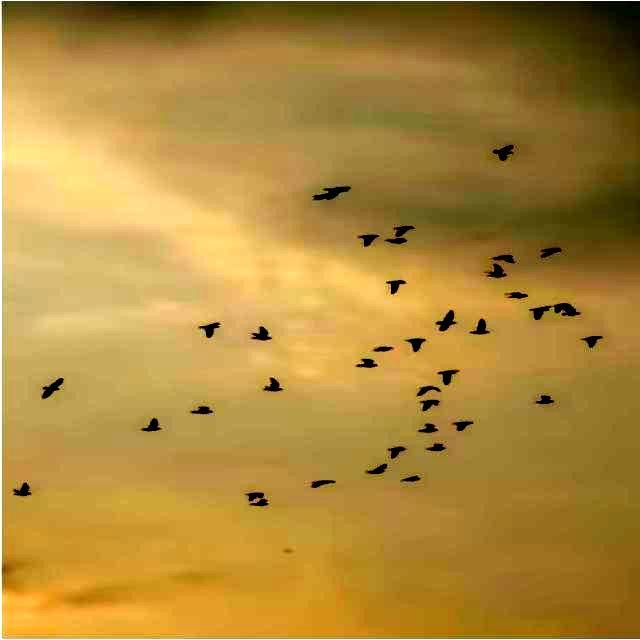bird: (308, 183, 360, 206), (482, 142, 525, 164), (430, 309, 464, 336), (38, 374, 68, 402), (305, 471, 340, 494), (258, 374, 294, 396), (11, 476, 38, 504), (130, 416, 168, 434), (437, 366, 474, 384), (464, 320, 502, 337), (388, 220, 428, 236), (579, 332, 610, 352), (405, 383, 446, 398), (248, 496, 282, 513), (534, 242, 566, 260), (190, 321, 223, 338), (401, 335, 434, 352), (454, 416, 482, 436), (355, 231, 384, 250), (353, 356, 382, 375), (185, 402, 218, 418), (408, 400, 444, 414), (428, 441, 452, 462), (247, 324, 272, 344), (534, 392, 562, 409), (505, 287, 534, 303), (385, 238, 417, 252), (492, 248, 520, 264), (486, 264, 508, 284), (366, 462, 392, 478), (385, 276, 408, 294), (386, 442, 409, 460), (372, 340, 394, 358), (556, 297, 582, 311), (528, 304, 550, 320), (416, 422, 442, 435), (241, 488, 269, 500), (402, 472, 430, 484), (560, 310, 586, 320)
